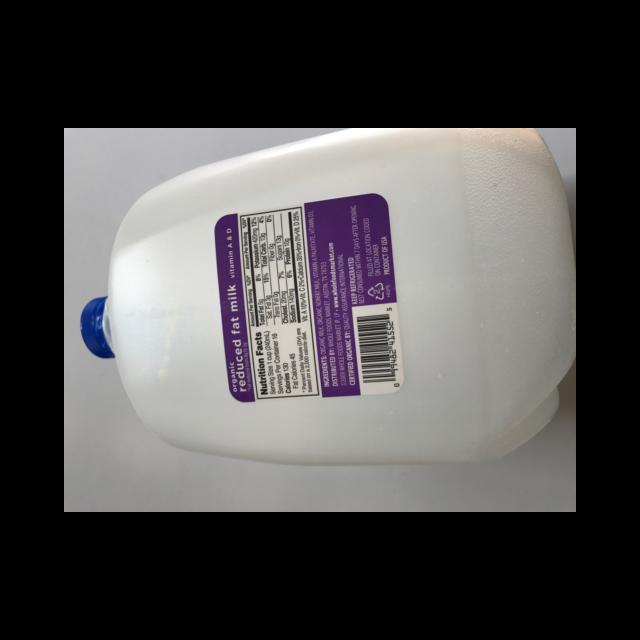plastic: (80, 128, 575, 461), (79, 295, 114, 358)
